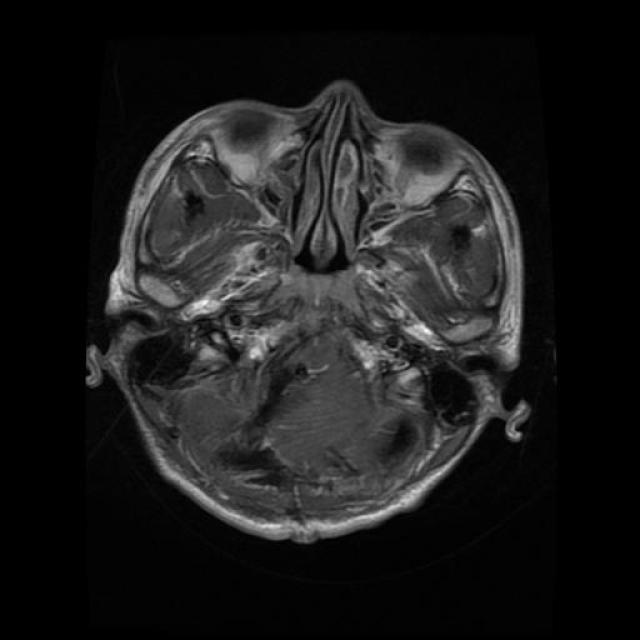glioma: (261, 181, 381, 333)
